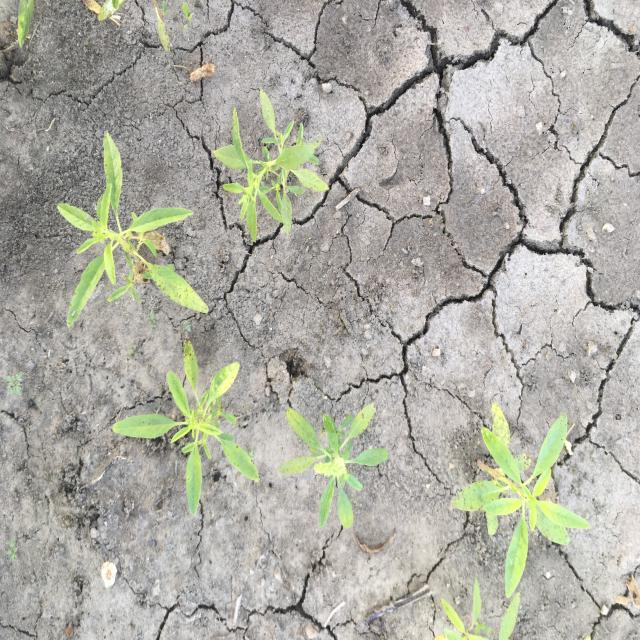Waterhemp: (56, 129, 211, 330), (448, 400, 592, 600), (110, 337, 261, 517), (212, 86, 331, 244), (277, 400, 390, 531)
